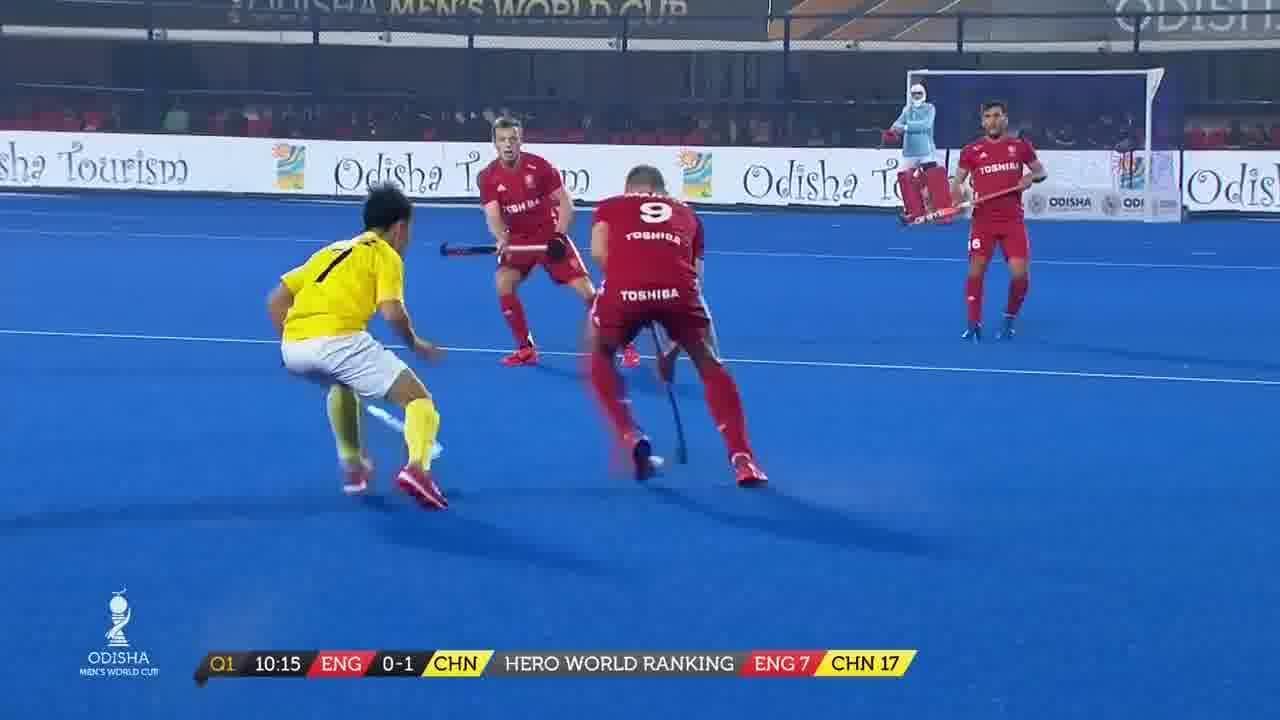ball: (650, 450, 672, 470)
